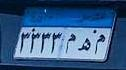3: (19, 30, 31, 53), (41, 31, 52, 54), (31, 30, 41, 55), (52, 32, 62, 53)
haa: (77, 36, 91, 54)
meem: (63, 33, 76, 56), (93, 34, 107, 55)
